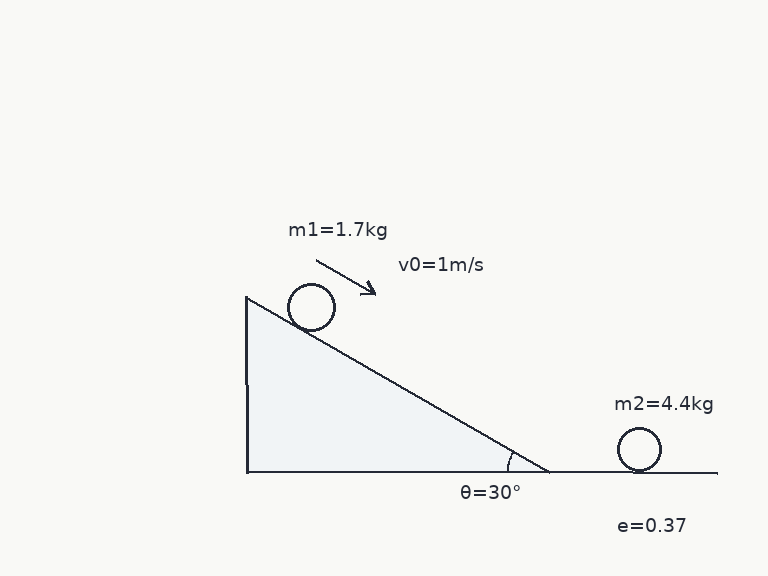ball: (285, 281, 337, 333), (615, 425, 663, 473)
ramp: (245, 295, 550, 473)
